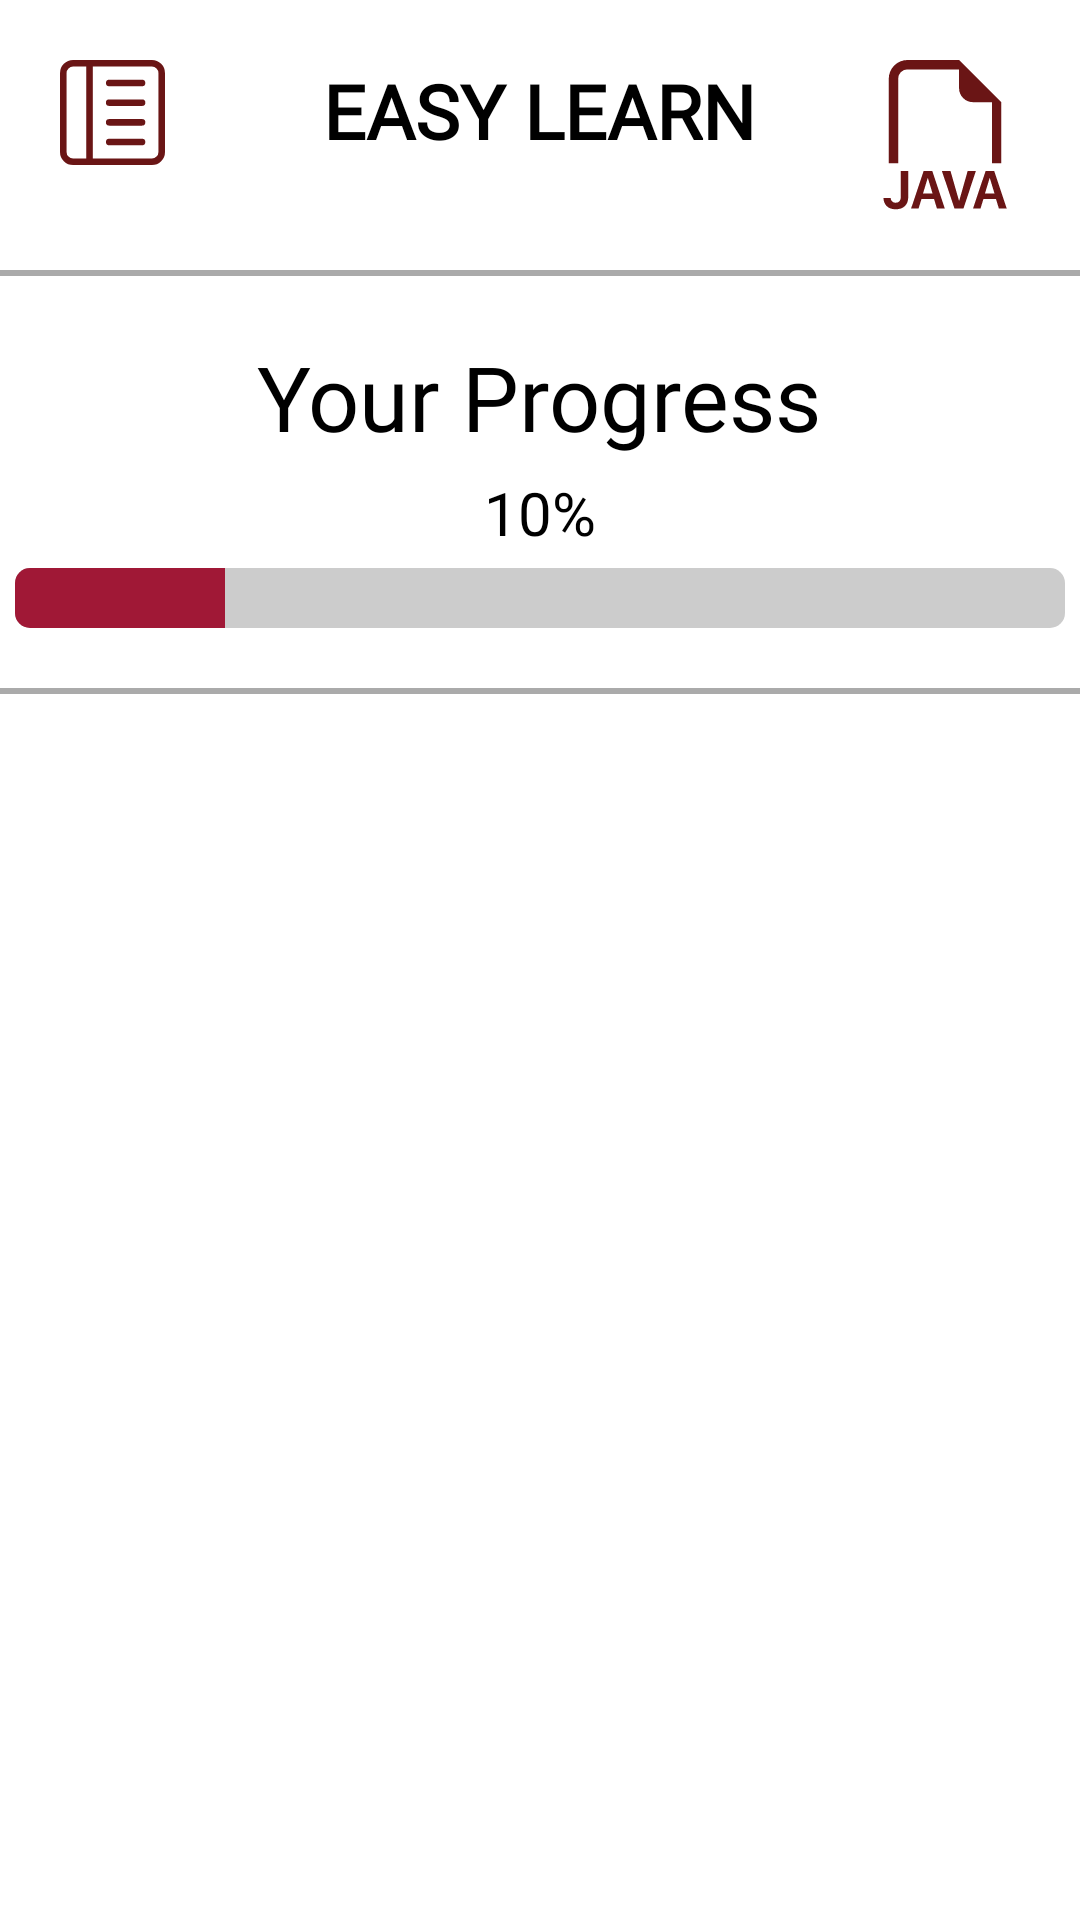

Icons on this 1080 × 1920 Android screen, each with its box as (left=x1, top=y1, right=x2, bottom=y2):
sidebar: (left=60, top=60, right=165, bottom=165)
